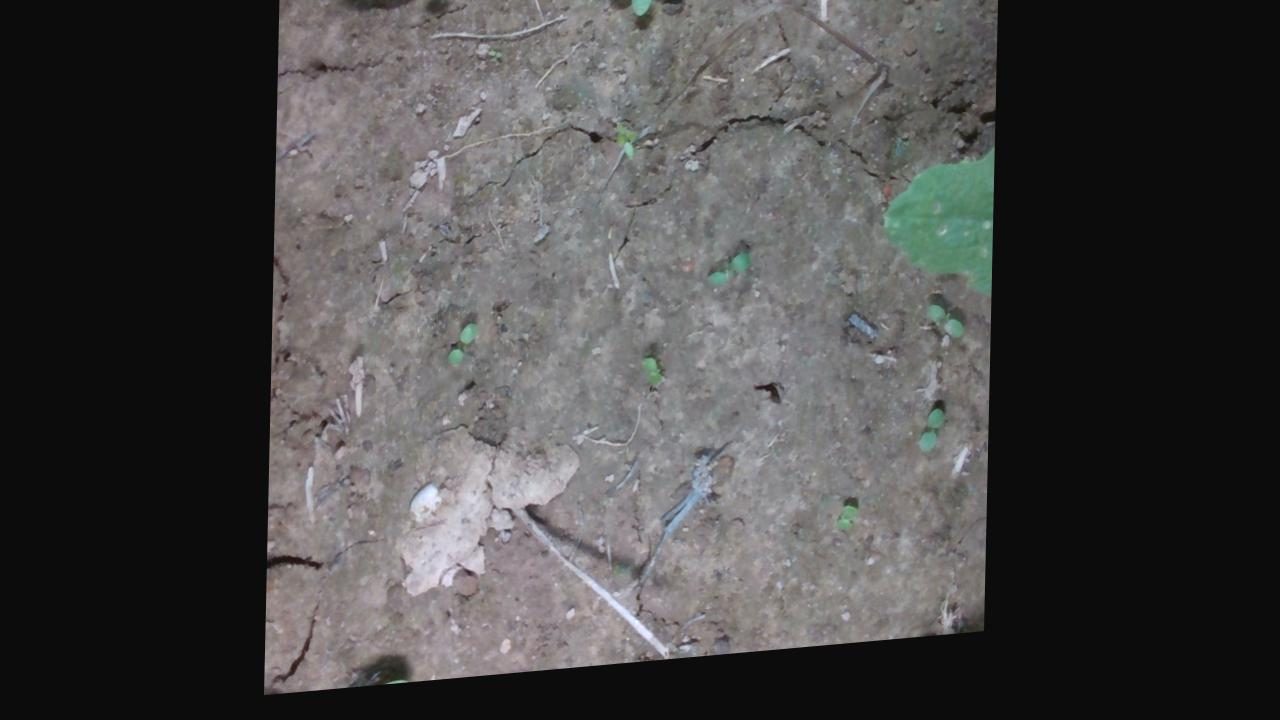weed: (925, 317, 967, 366)
